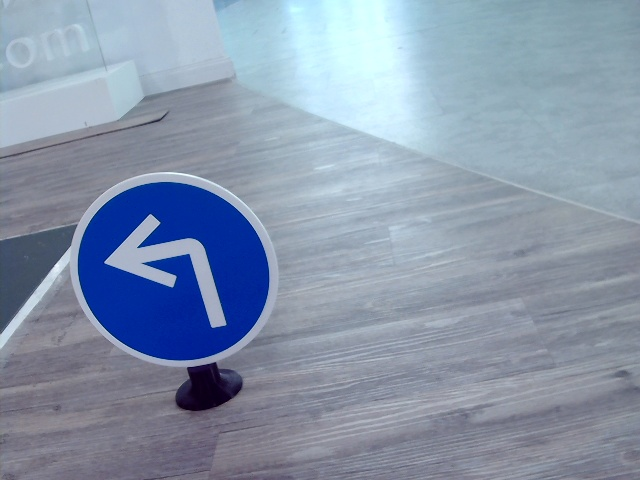turn_left: (98, 217, 242, 330)
